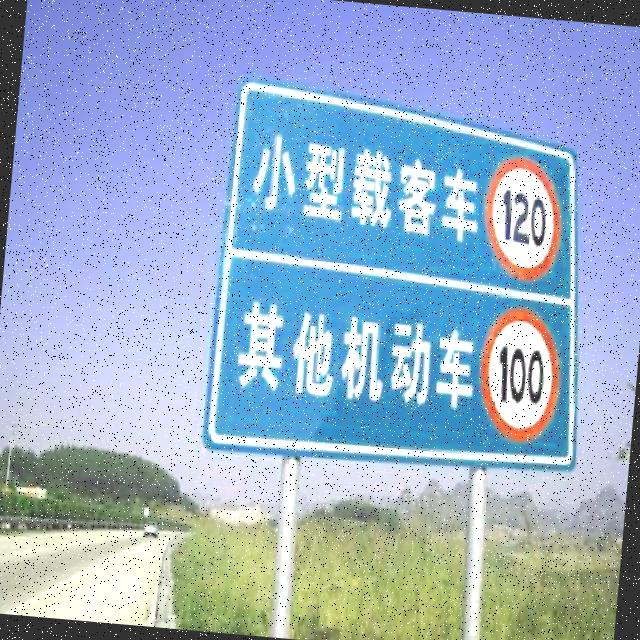Ograniczenie predkosci do 100: (475, 306, 565, 444)
Ograniczenie predkosci do 120: (480, 154, 564, 286)
